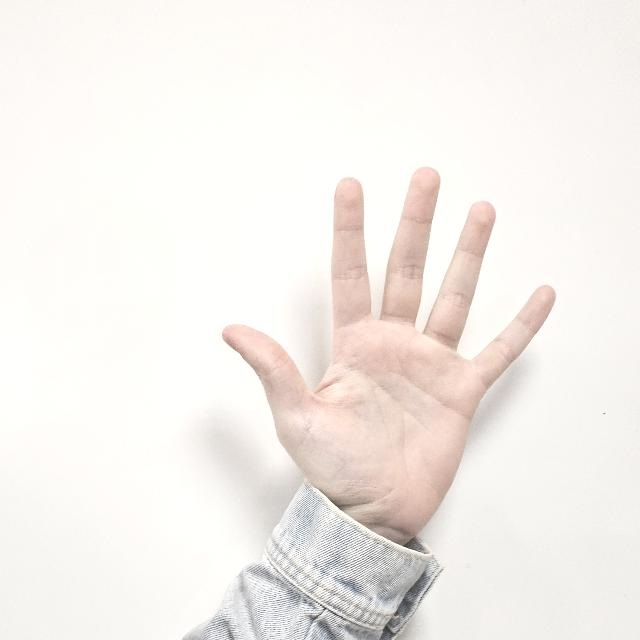X: (220, 168, 560, 530)
